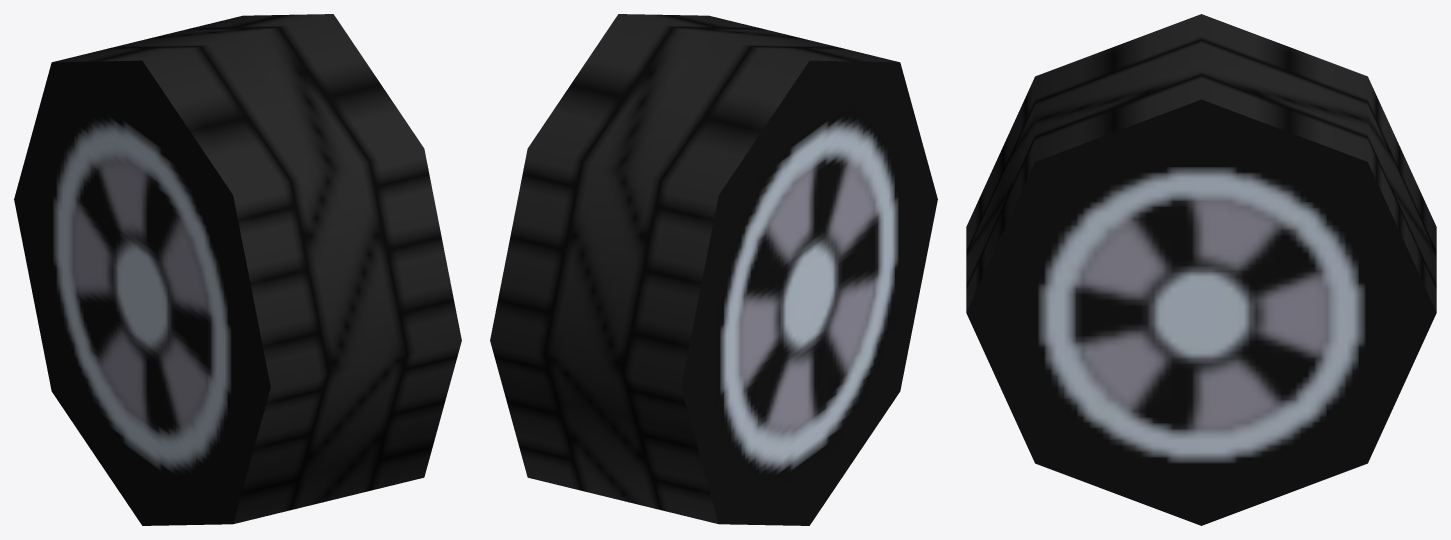
Rendered from HatchbackWheel.fbx.
3 views of the same model, side by side, from view 1: azimuth 30°, elevation 25°; view 2: azimuth 150°, elevation 25°; view 3: azimuth 270°, elevation 25° (orthographic). The views are drawn at different scales.
Parts seen in each view (by area): view 1: Cylinder; view 2: Cylinder; view 3: Cylinder.
Part boxes in pixels (<box>): Cylinder: <box>14,14,461,525</box>; Cylinder: <box>490,14,937,525</box>; Cylinder: <box>966,14,1436,525</box>.
Bounding box in the file's own units: 0.8597 × 2 × 2.
Materials: 1 (1 with a texture image).
